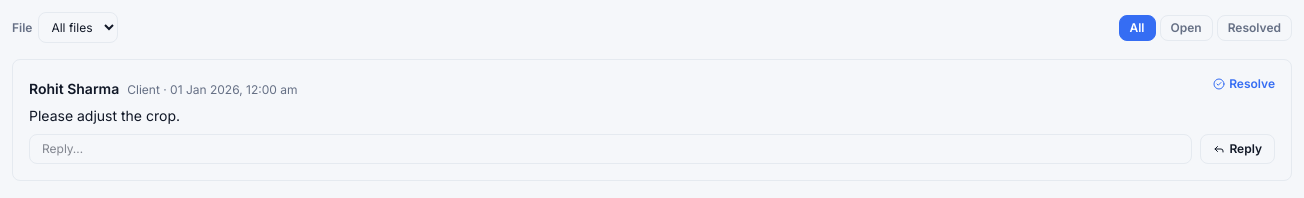
Test: CommentsTab reply › keeps the entered text and shows an error on a handled failure
In the field with placeholder "Reply…": (611, 149) [29,134,1192,164], type "Sure, updating now."
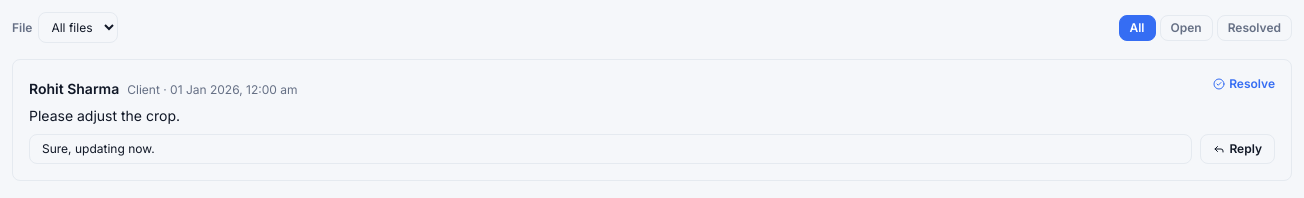
Click the button "Reply": (1238, 149) [1200,134,1275,164]
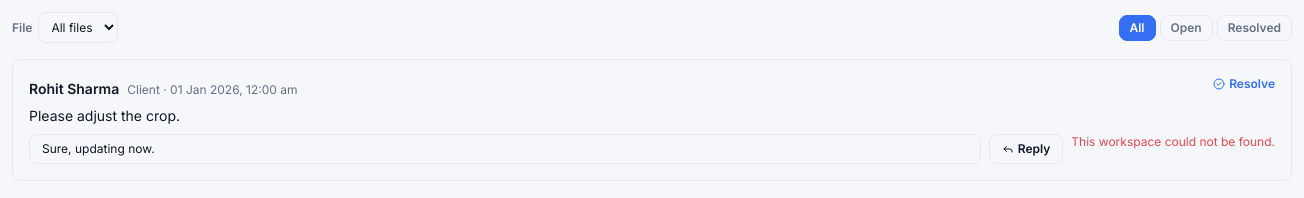
Now the message reads "This workspace could not be found.", box [1071,134,1275,149]
